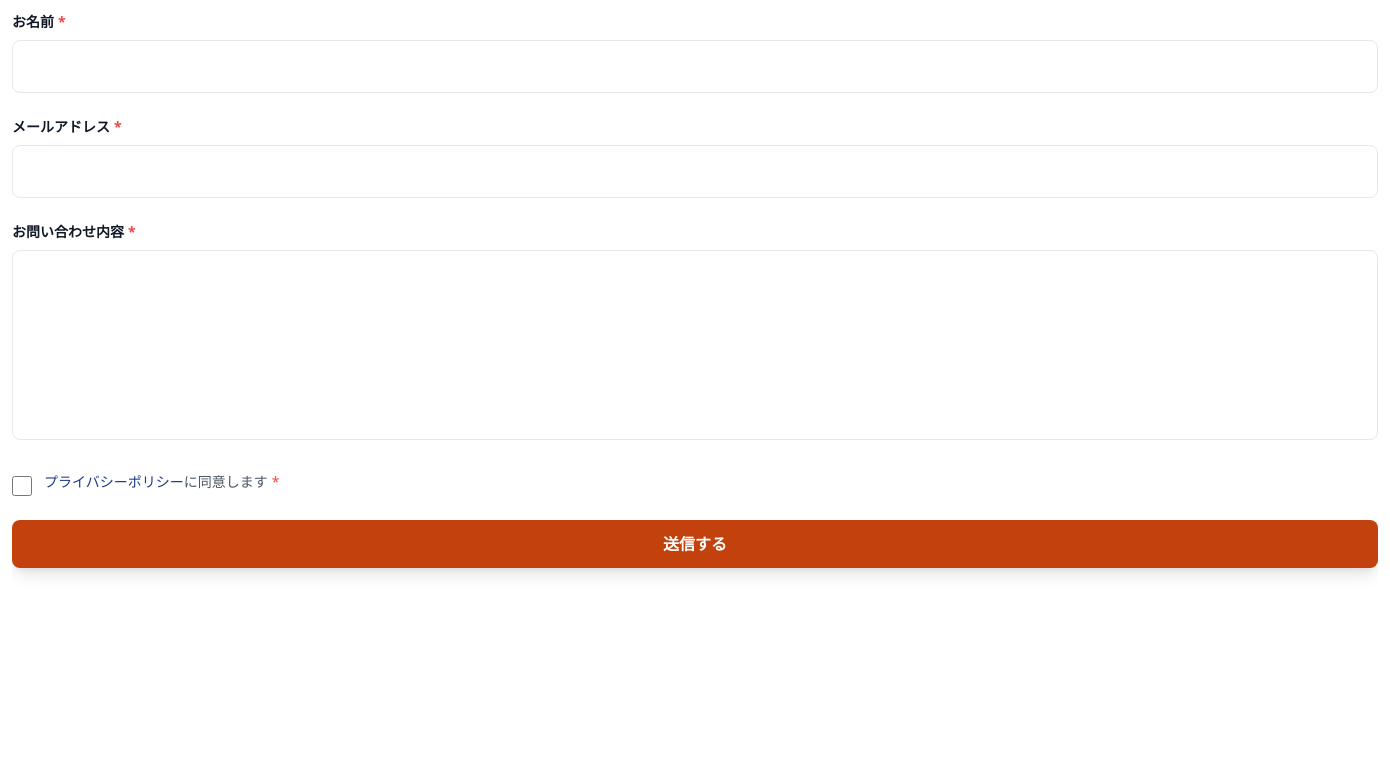
Test: ContactForm › validation › shows error when email is invalid
Type "invalid-email" into the field labelled "メールアドレス*" at (695, 172), box [12,145,1378,198]
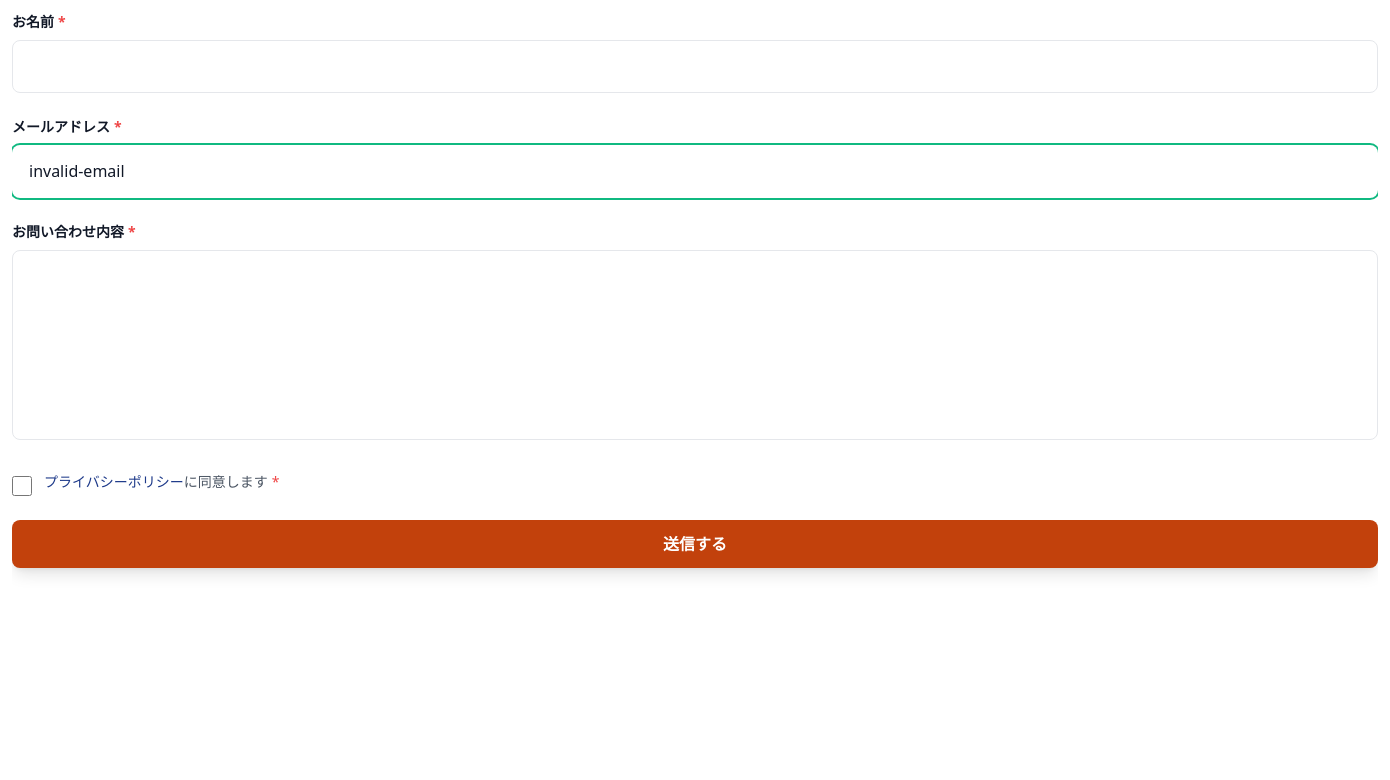
Click the button "送信する" at (695, 544), box [12,520,1378,568]
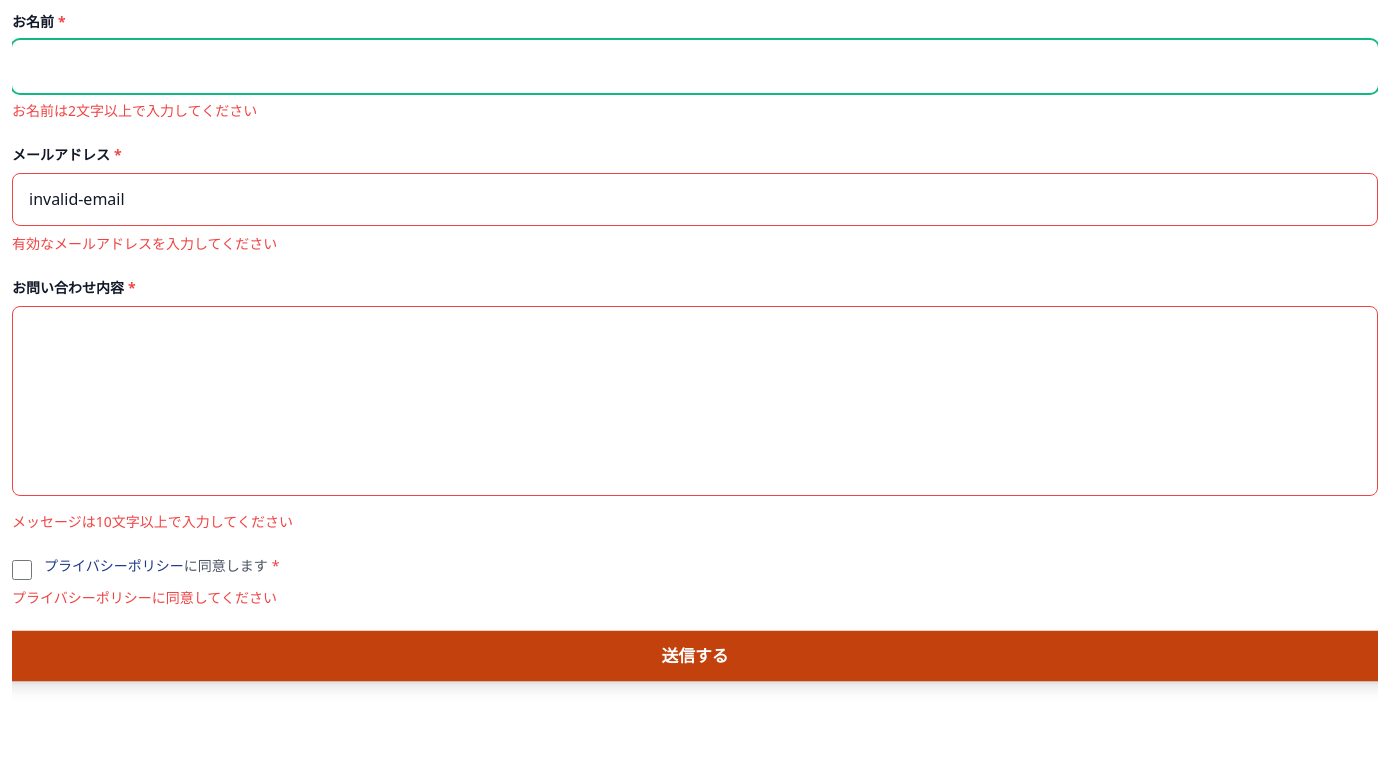
Result: the text "有効なメールアドレスを入力してください" is shown at [12,234,277,253]
